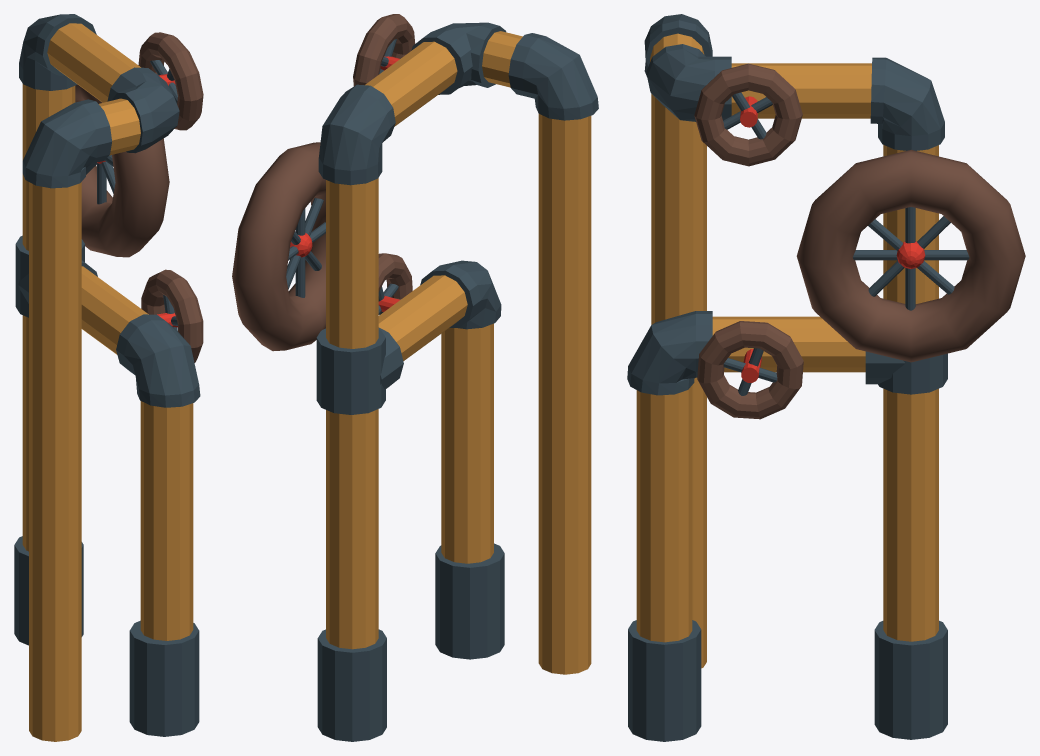
The model's file is Steampunk pipes.fbx.
3 renders of one model, left to right at view 1: azimuth 30°, elevation 25°; view 2: azimuth 150°, elevation 25°; view 3: azimuth 270°, elevation 25°, orthographic. The views are drawn at different scales.
Parts seen in each view (by area): view 1: model7:mesh414090621, model7:mesh1142927423, model7:mesh1004552146, model7:mesh88248500, model7:mesh1299190962, model7:mesh1958307834, model7:mesh101053789, model7:mesh444473868, model7:mesh231731733, model7:mesh1350089925, model7:mesh513117509, model7:mesh1421749061 (+5 smaller); view 2: model7:mesh414090621, model7:mesh101053789, model7:mesh1004552146, model7:mesh1142927423, model7:mesh88248500, model7:mesh2148647, model7:mesh1421749061, model7:mesh1299190962, model7:mesh1550065549, model7:mesh513117509, model7:mesh444473868, model7:mesh231731733 (+6 smaller); view 3: model7:mesh1004552146, model7:mesh101053789, model7:mesh414090621, model7:mesh1142927423, model7:mesh88248500, model7:mesh2148647, model7:mesh1350089925, model7:mesh1368530898, model7:mesh1421749061, model7:mesh1958307834, model7:mesh444473868, model7:mesh513117509 (+8 smaller).
Boxes of the visible parts, x1,y1,x2,y2 form: model7:mesh414090621: (29,182,81,741); model7:mesh1142927423: (140,401,193,640); model7:mesh1004552146: (75,84,169,257); model7:mesh88248500: (129,620,199,736); model7:mesh1299190962: (22,99,111,188); model7:mesh1958307834: (116,314,200,407); model7:mesh101053789: (22,84,75,551); model7:mesh444473868: (47,23,140,102); model7:mesh231731733: (107,67,179,153); model7:mesh1350089925: (138,32,203,130); model7:mesh513117509: (81,266,148,354); model7:mesh1421749061: (19,14,96,90); model7:mesh414090621: (538,114,591,674); model7:mesh101053789: (326,178,378,649); model7:mesh1004552146: (232,142,325,351); model7:mesh1142927423: (441,323,493,563); model7:mesh88248500: (435,543,504,659); model7:mesh2148647: (317,629,386,741); model7:mesh1421749061: (318,84,395,185); model7:mesh1299190962: (508,33,598,120); model7:mesh1550065549: (316,328,385,414); model7:mesh513117509: (378,275,467,360); model7:mesh444473868: (365,41,457,126); model7:mesh231731733: (411,22,506,94); model7:mesh1004552146: (796,149,1025,362); model7:mesh101053789: (883,145,938,641); model7:mesh414090621: (651,94,706,668); model7:mesh1142927423: (636,385,692,642); model7:mesh88248500: (628,620,701,741); model7:mesh2148647: (874,620,947,739); model7:mesh1350089925: (694,63,802,166); model7:mesh1368530898: (697,321,803,419); model7:mesh1421749061: (870,57,944,150); model7:mesh1958307834: (627,311,712,395); model7:mesh444473868: (731,63,871,118); model7:mesh513117509: (712,316,865,372).
Bounding box in the file's own units: 1.74 × 5.14 × 2.71.
